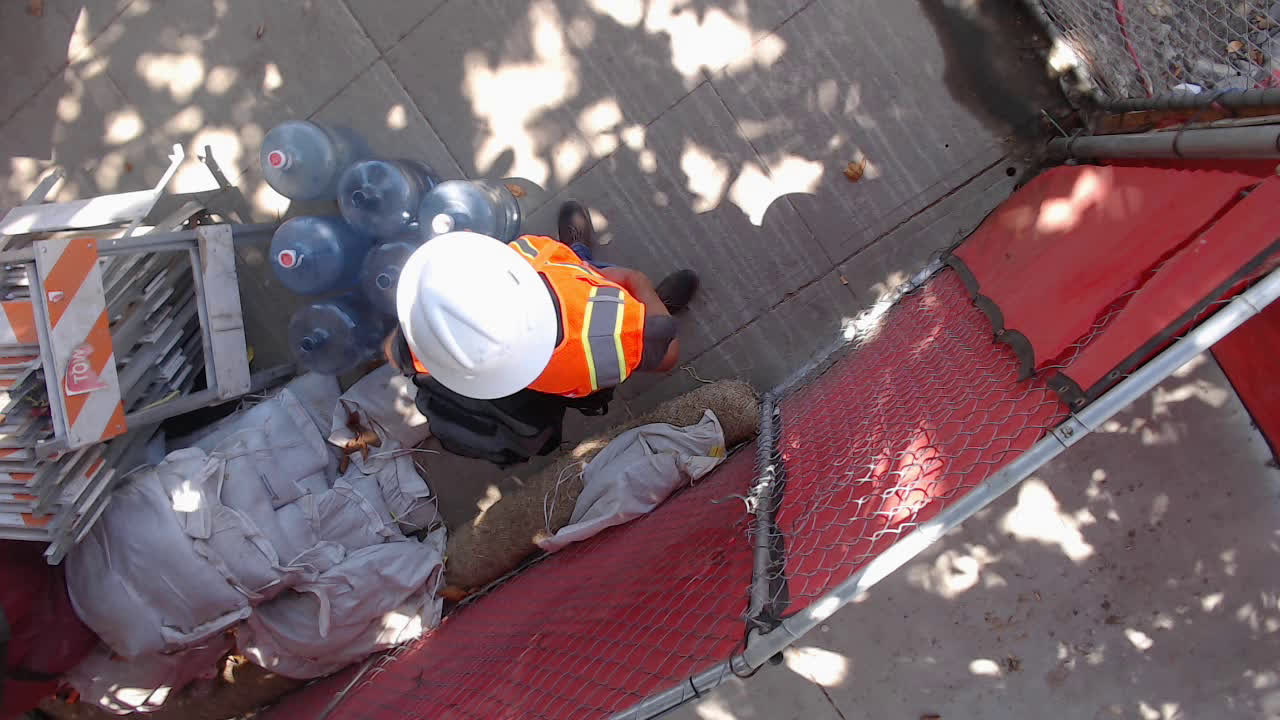hardhat: (391, 228, 558, 396)
safetyvest: (467, 236, 647, 408)
